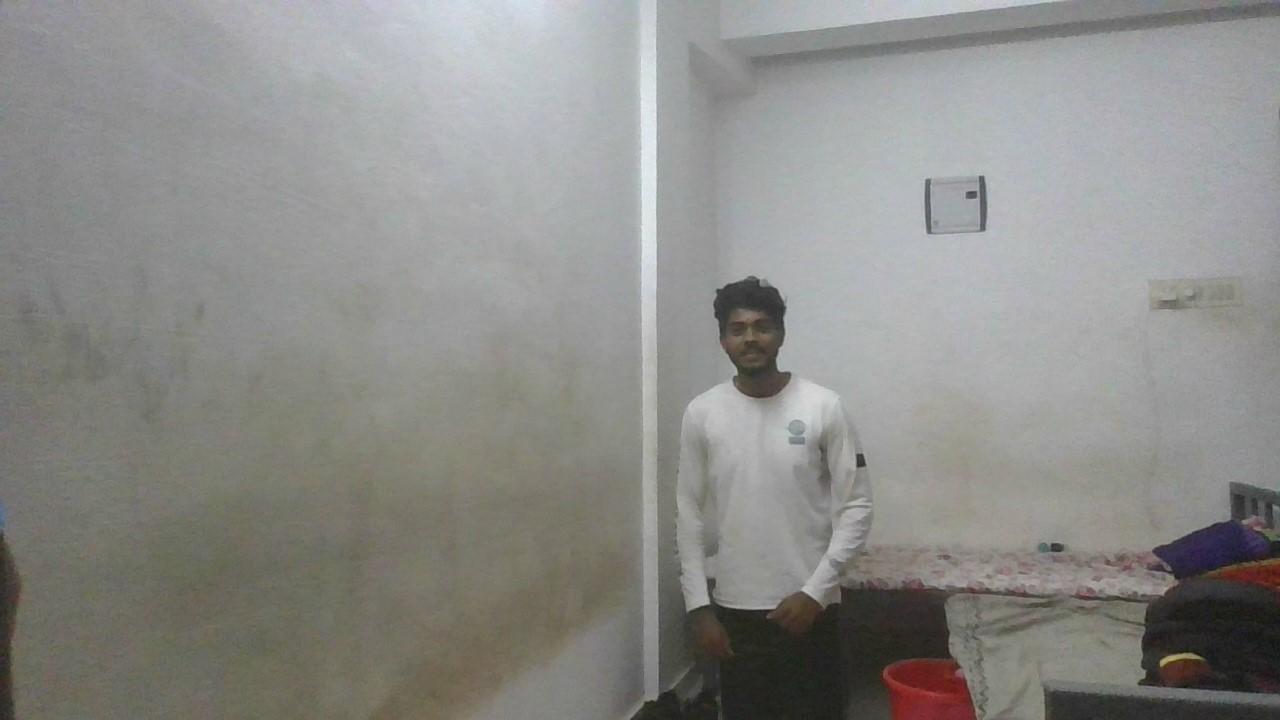nohelmet: (714, 275, 788, 381)
